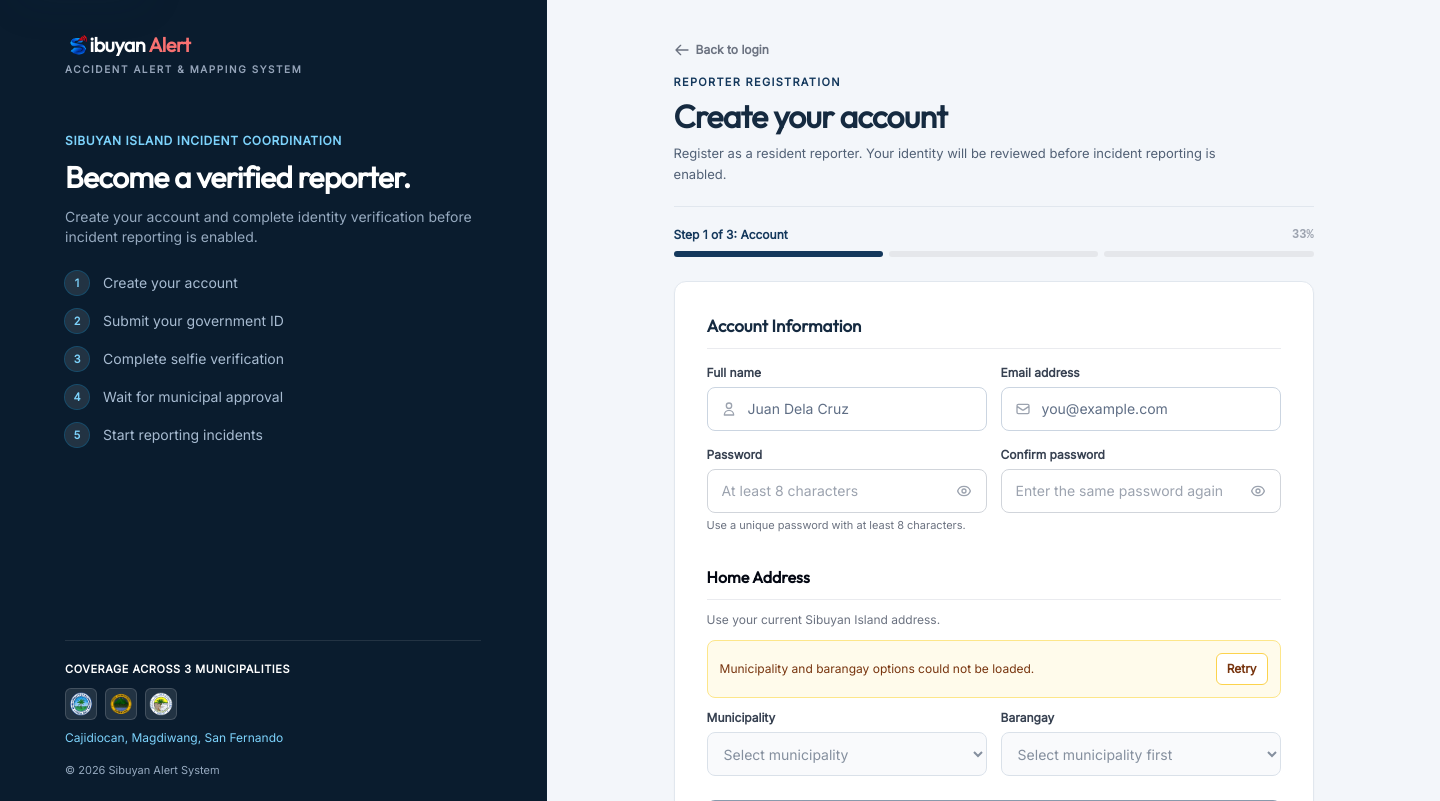
RegisterPage location reference and responsive form › keeps location selection disabled and provides retry when reference loading fails
Expected: the message shows "could not be loaded", [720,661,1034,676]
Expected: the dropdown labelled "Municipality" is disabled, [707,732,987,776]
Step 1. Click the button "Retry" → [1242, 669], box [1216,653,1268,685]
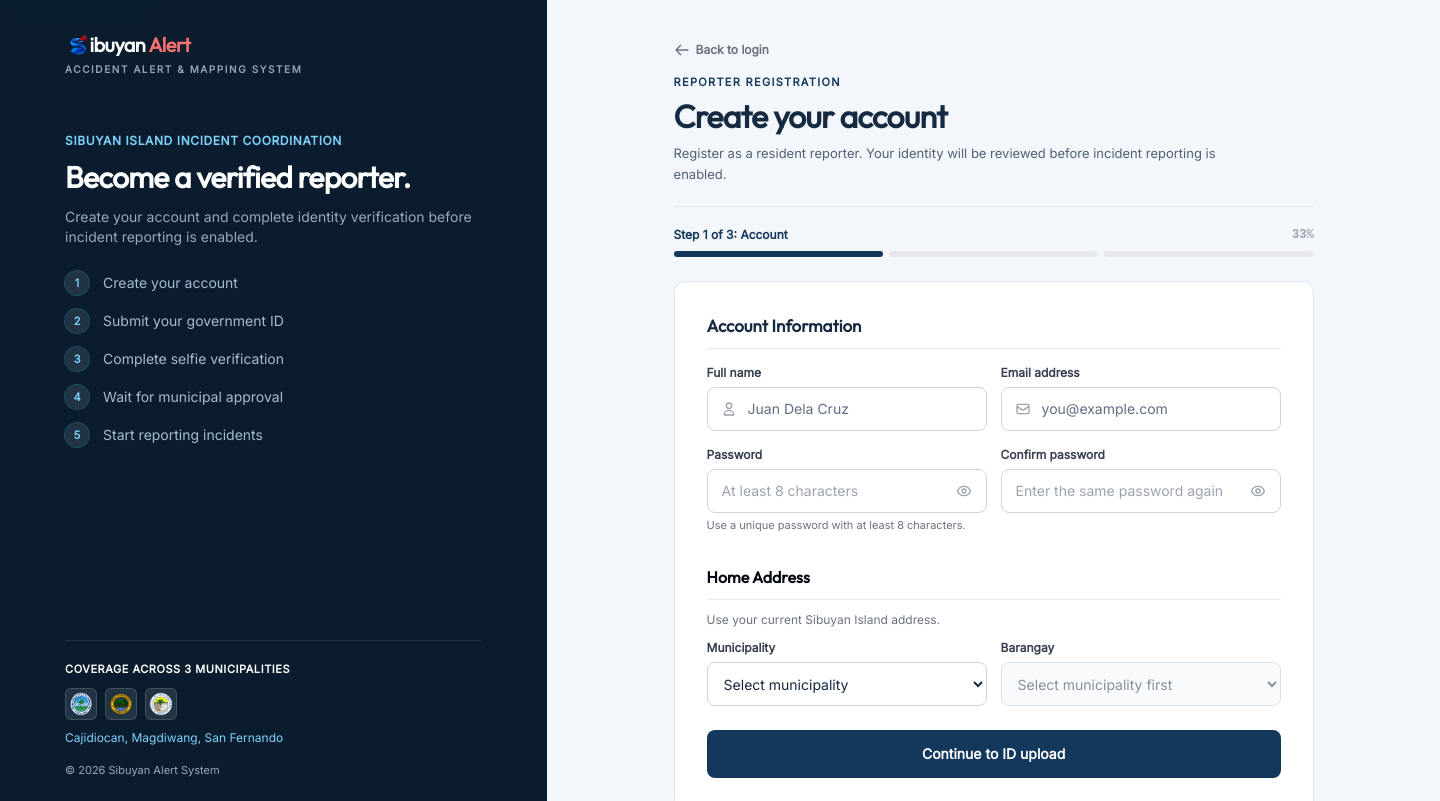
Now the dropdown labelled "Municipality" is enabled, box [707,662,987,706]
